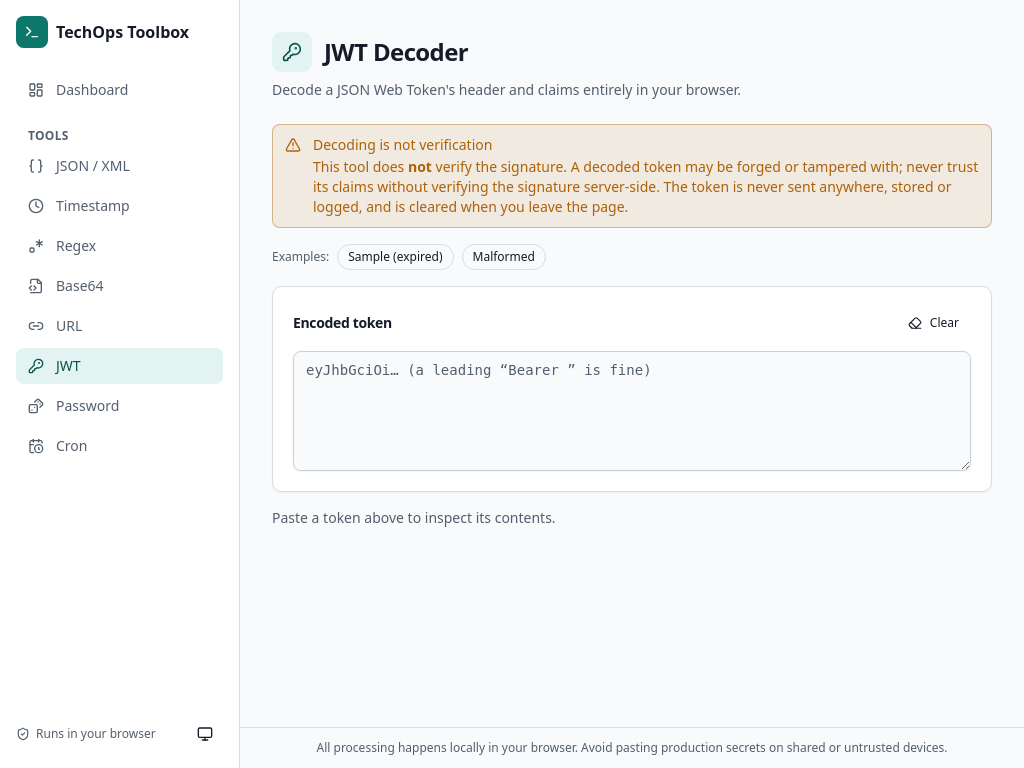
Test: JWT page › decodes a token, states that the signature is not verified, and flags expiry
Expected: the text "Decoding is not verification" is shown, 313,135 -> 492,154
Step 1. Click the button "Sample (expired)" → (395, 257), box 337,244 -> 454,270
(page scrolled)
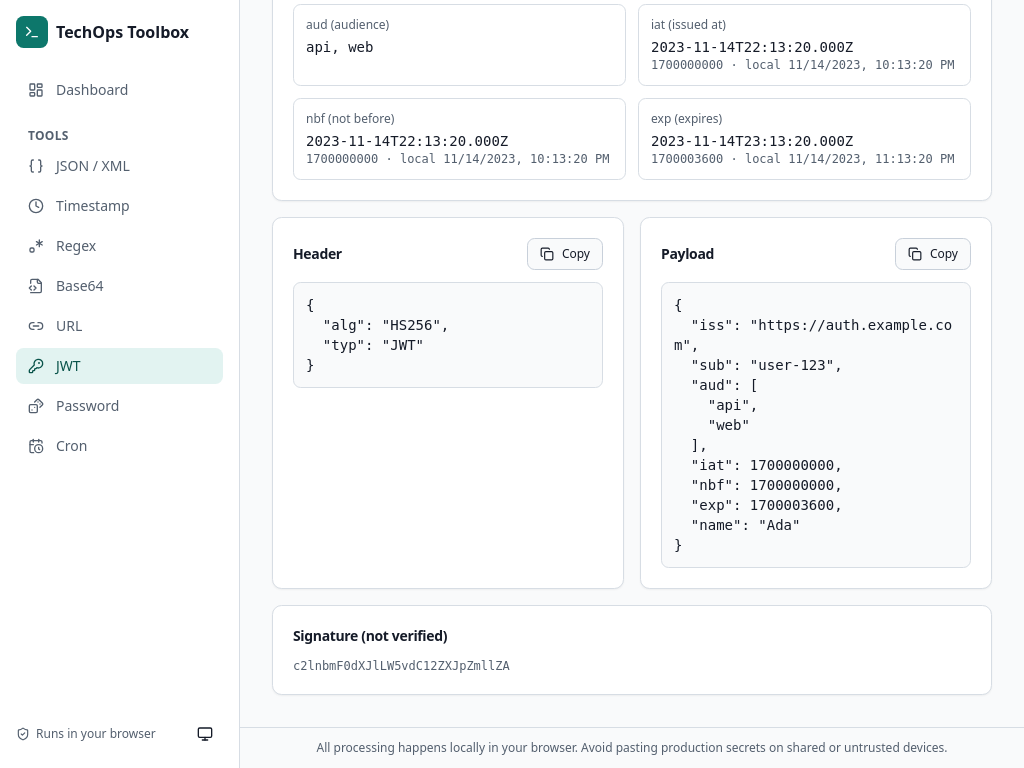
Expected: the heading "Signature (not verified)" is shown, 293,626 -> 447,646
